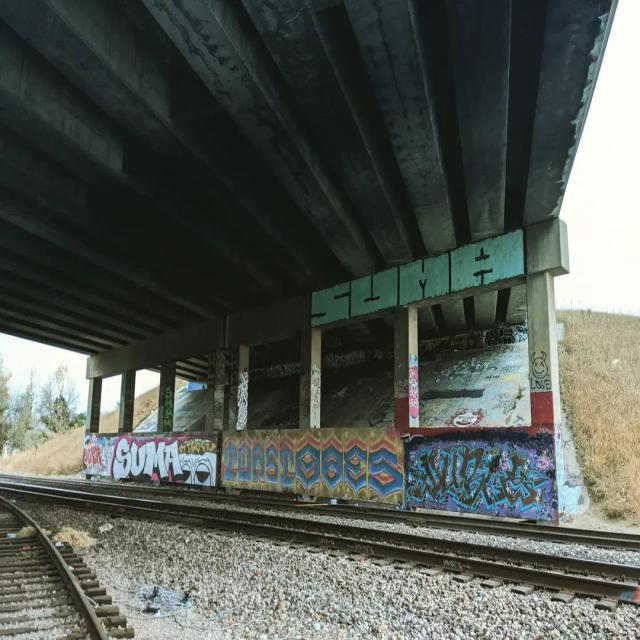nonspitting: (310, 228, 525, 328), (405, 429, 559, 524), (223, 432, 404, 499), (84, 434, 216, 486), (526, 348, 552, 391), (443, 408, 485, 428)
